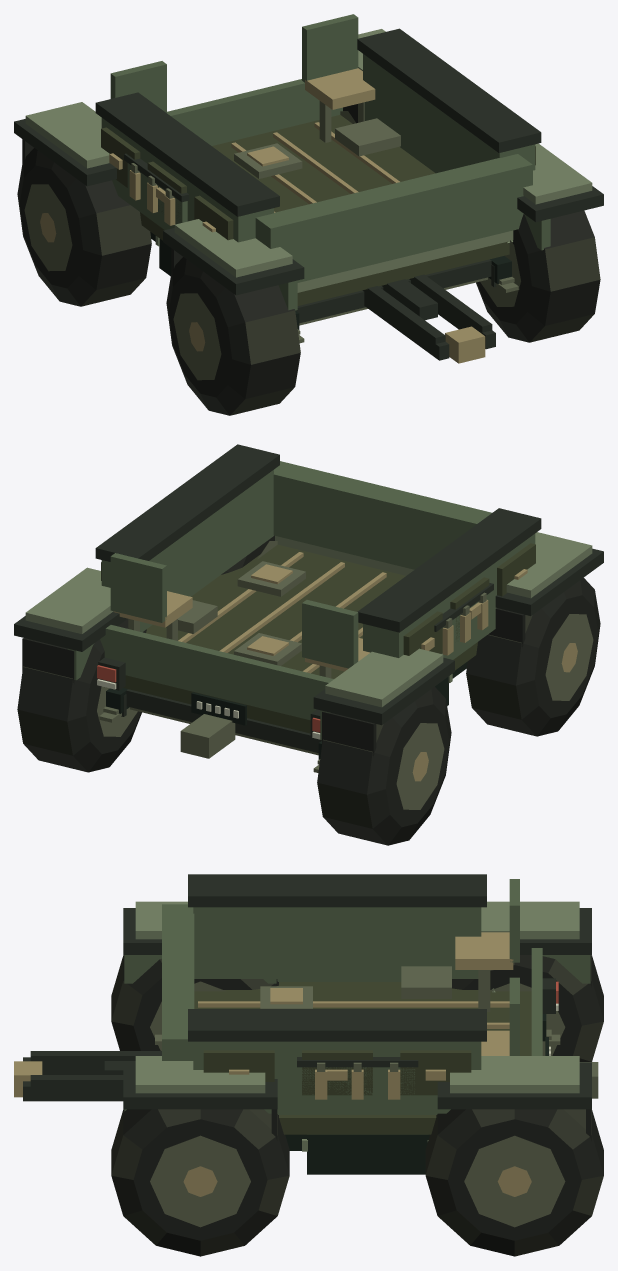
Rendered from military_wagon_weapon.glb.
3 views of the same model, one above another, from view 1: azimuth 30°, elevation 25°; view 2: azimuth 150°, elevation 25°; view 3: azimuth 270°, elevation 25° (orthographic). The views are drawn at different scales.
Visible parts, largest first — view 1: WagonDeck.002, WagonDetails_weapon, AllTerrainTire.008, AllTerrainTire.010, AllTerrainTire.009, DrawbarFrame.002; view 2: WagonDeck.002, WagonDetails_weapon, AllTerrainTire.010, AllTerrainTire.008, AllTerrainTire.011; view 3: WagonDetails_weapon, WagonDeck.002, AllTerrainTire.009, AllTerrainTire.011, AllTerrainTire.010, AllTerrainTire.008, DrawbarFrame.002.
Part boxes in pixels (<box>): WagonDeck.002: <box>14,14,603,343</box>; WagonDetails_weapon: <box>95,28,541,282</box>; AllTerrainTire.008: <box>166,257,300,415</box>; AllTerrainTire.010: <box>17,148,151,306</box>; AllTerrainTire.009: <box>476,210,600,342</box>; DrawbarFrame.002: <box>364,281,495,363</box>; WagonDeck.002: <box>14,532,603,772</box>; WagonDetails_weapon: <box>95,444,541,659</box>; AllTerrainTire.010: <box>317,686,451,845</box>; AllTerrainTire.008: <box>466,577,600,736</box>; AllTerrainTire.011: <box>17,619,146,772</box>; WagonDetails_weapon: <box>162,874,486,1113</box>; WagonDeck.002: <box>30,879,598,1174</box>; AllTerrainTire.009: <box>111,1109,289,1256</box>; AllTerrainTire.011: <box>425,1109,603,1256</box>; AllTerrainTire.010: <box>452,955,603,1061</box>; AllTerrainTire.008: <box>111,955,278,1050</box>; DrawbarFrame.002: <box>14,1057,123,1101</box>.
Size of the model in its own units: 4.48 by 2.45 by 5.82.
2 materials, 2 textured.
